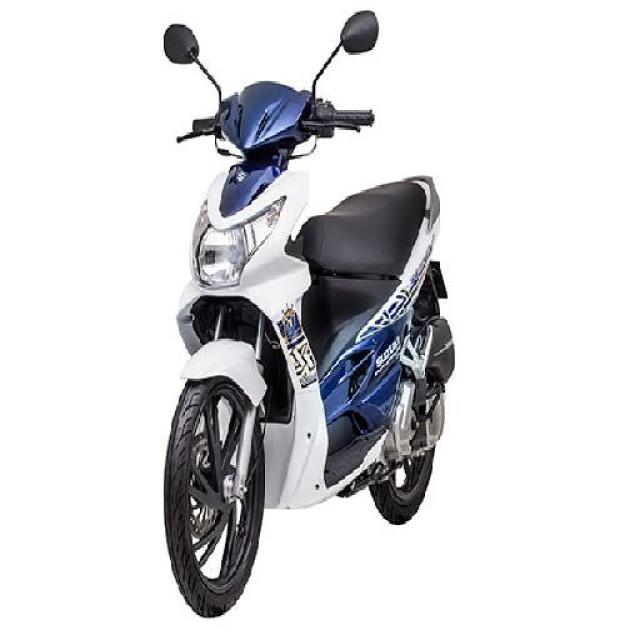All: (150, 6, 468, 618)
Head: (170, 82, 373, 151)
Tail: (378, 164, 448, 242)
